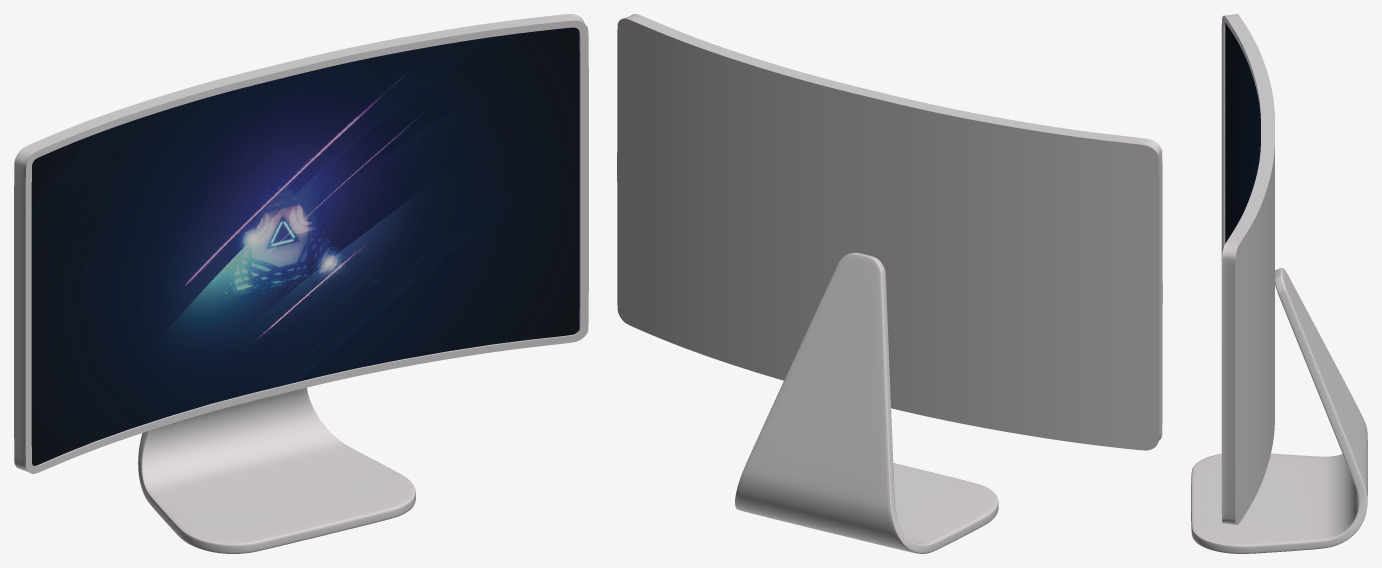
File: Monitor.fbx
3 views of the same model, side by side, from view 1: azimuth 30°, elevation 25°; view 2: azimuth 150°, elevation 25°; view 3: azimuth 270°, elevation 25° (orthographic). The views are drawn at different scales.
Parts seen in each view (by area): view 1: Monitor, Plane.001; view 2: Monitor, Plane.001; view 3: Monitor, Plane.001.
Part boxes in pixels (bbox=[...]): Monitor: bbox=[14, 14, 588, 473]; Plane.001: bbox=[138, 387, 415, 553]; Monitor: bbox=[617, 14, 1162, 450]; Plane.001: bbox=[735, 252, 998, 553]; Monitor: bbox=[1221, 14, 1274, 524]; Plane.001: bbox=[1191, 268, 1367, 553].
Bounding box in the file's own units: 278 × 203 × 86.15.
Materials: 2 (1 with a texture image).
